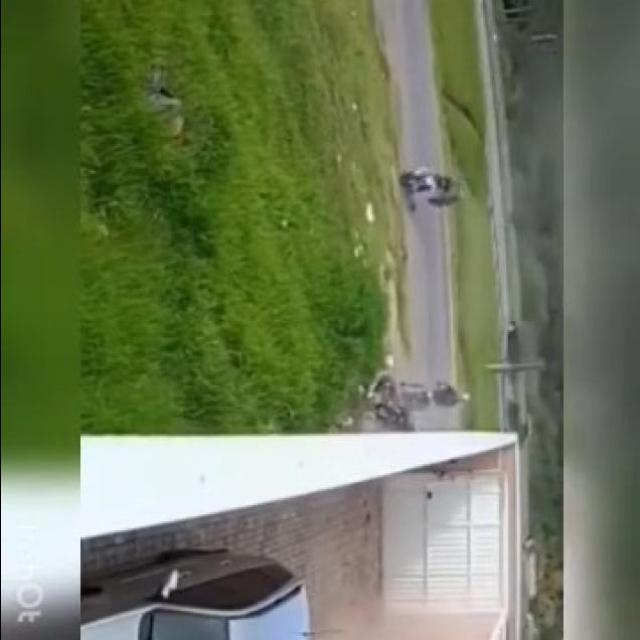accident: (356, 375, 428, 439)
